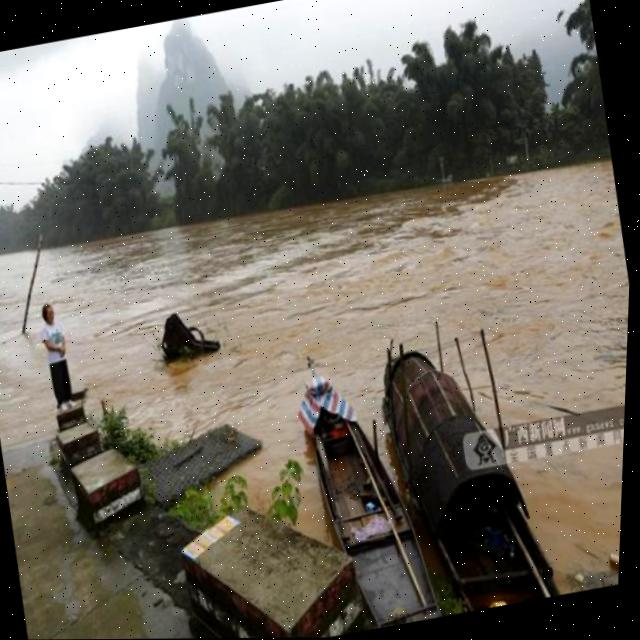civilian: (15, 290, 103, 426)
